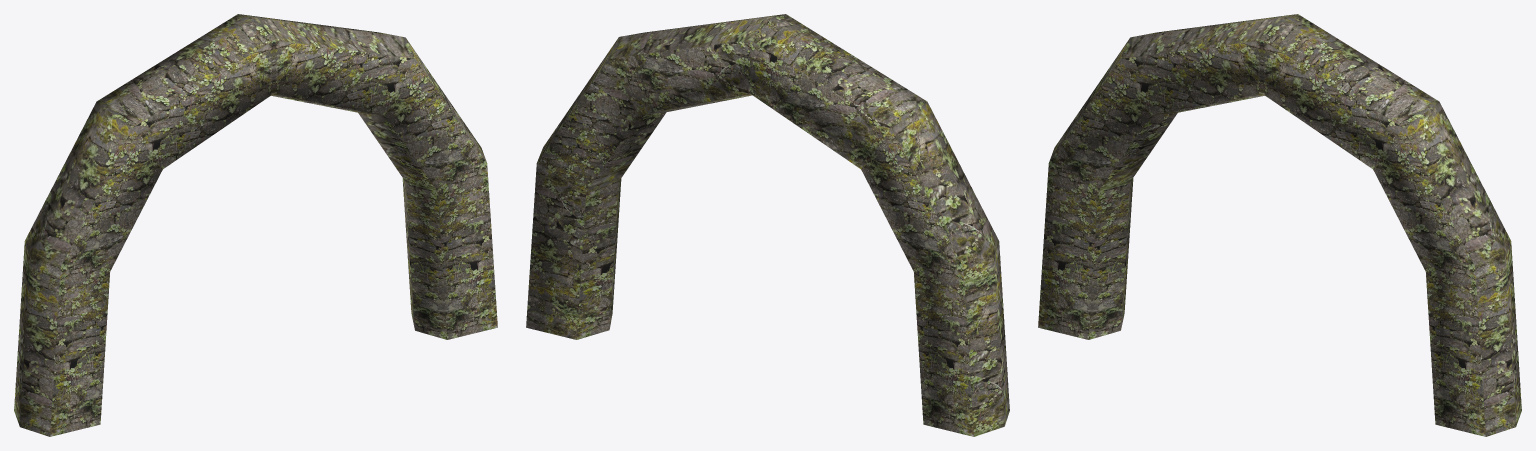
The model's file is Deco.Archway.fbx.
3 views of the same model, side by side, from view 1: azimuth 30°, elevation 25°; view 2: azimuth 150°, elevation 25°; view 3: azimuth 330°, elevation 25° (orthographic).
Parts seen in each view (by area): view 1: Deco.Archway; view 2: Deco.Archway; view 3: Deco.Archway.
Boxes of the visible parts, x1,y1,x2,y2 form: Deco.Archway: [14, 14, 497, 436]; Deco.Archway: [526, 14, 1009, 436]; Deco.Archway: [1038, 14, 1521, 436].
Size of the model in its own units: 187 by 133 by 24.61.
